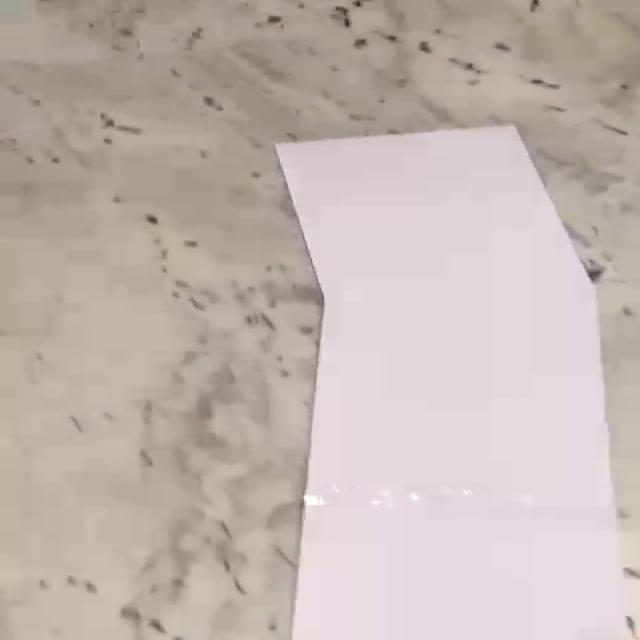road: (276, 126, 627, 640)
